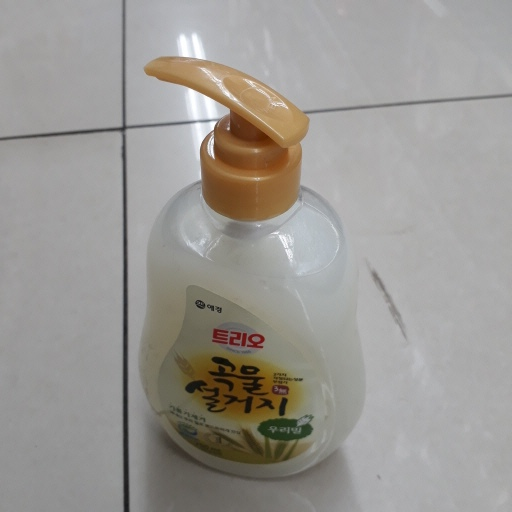Plastic_3: (139, 55, 367, 481)
